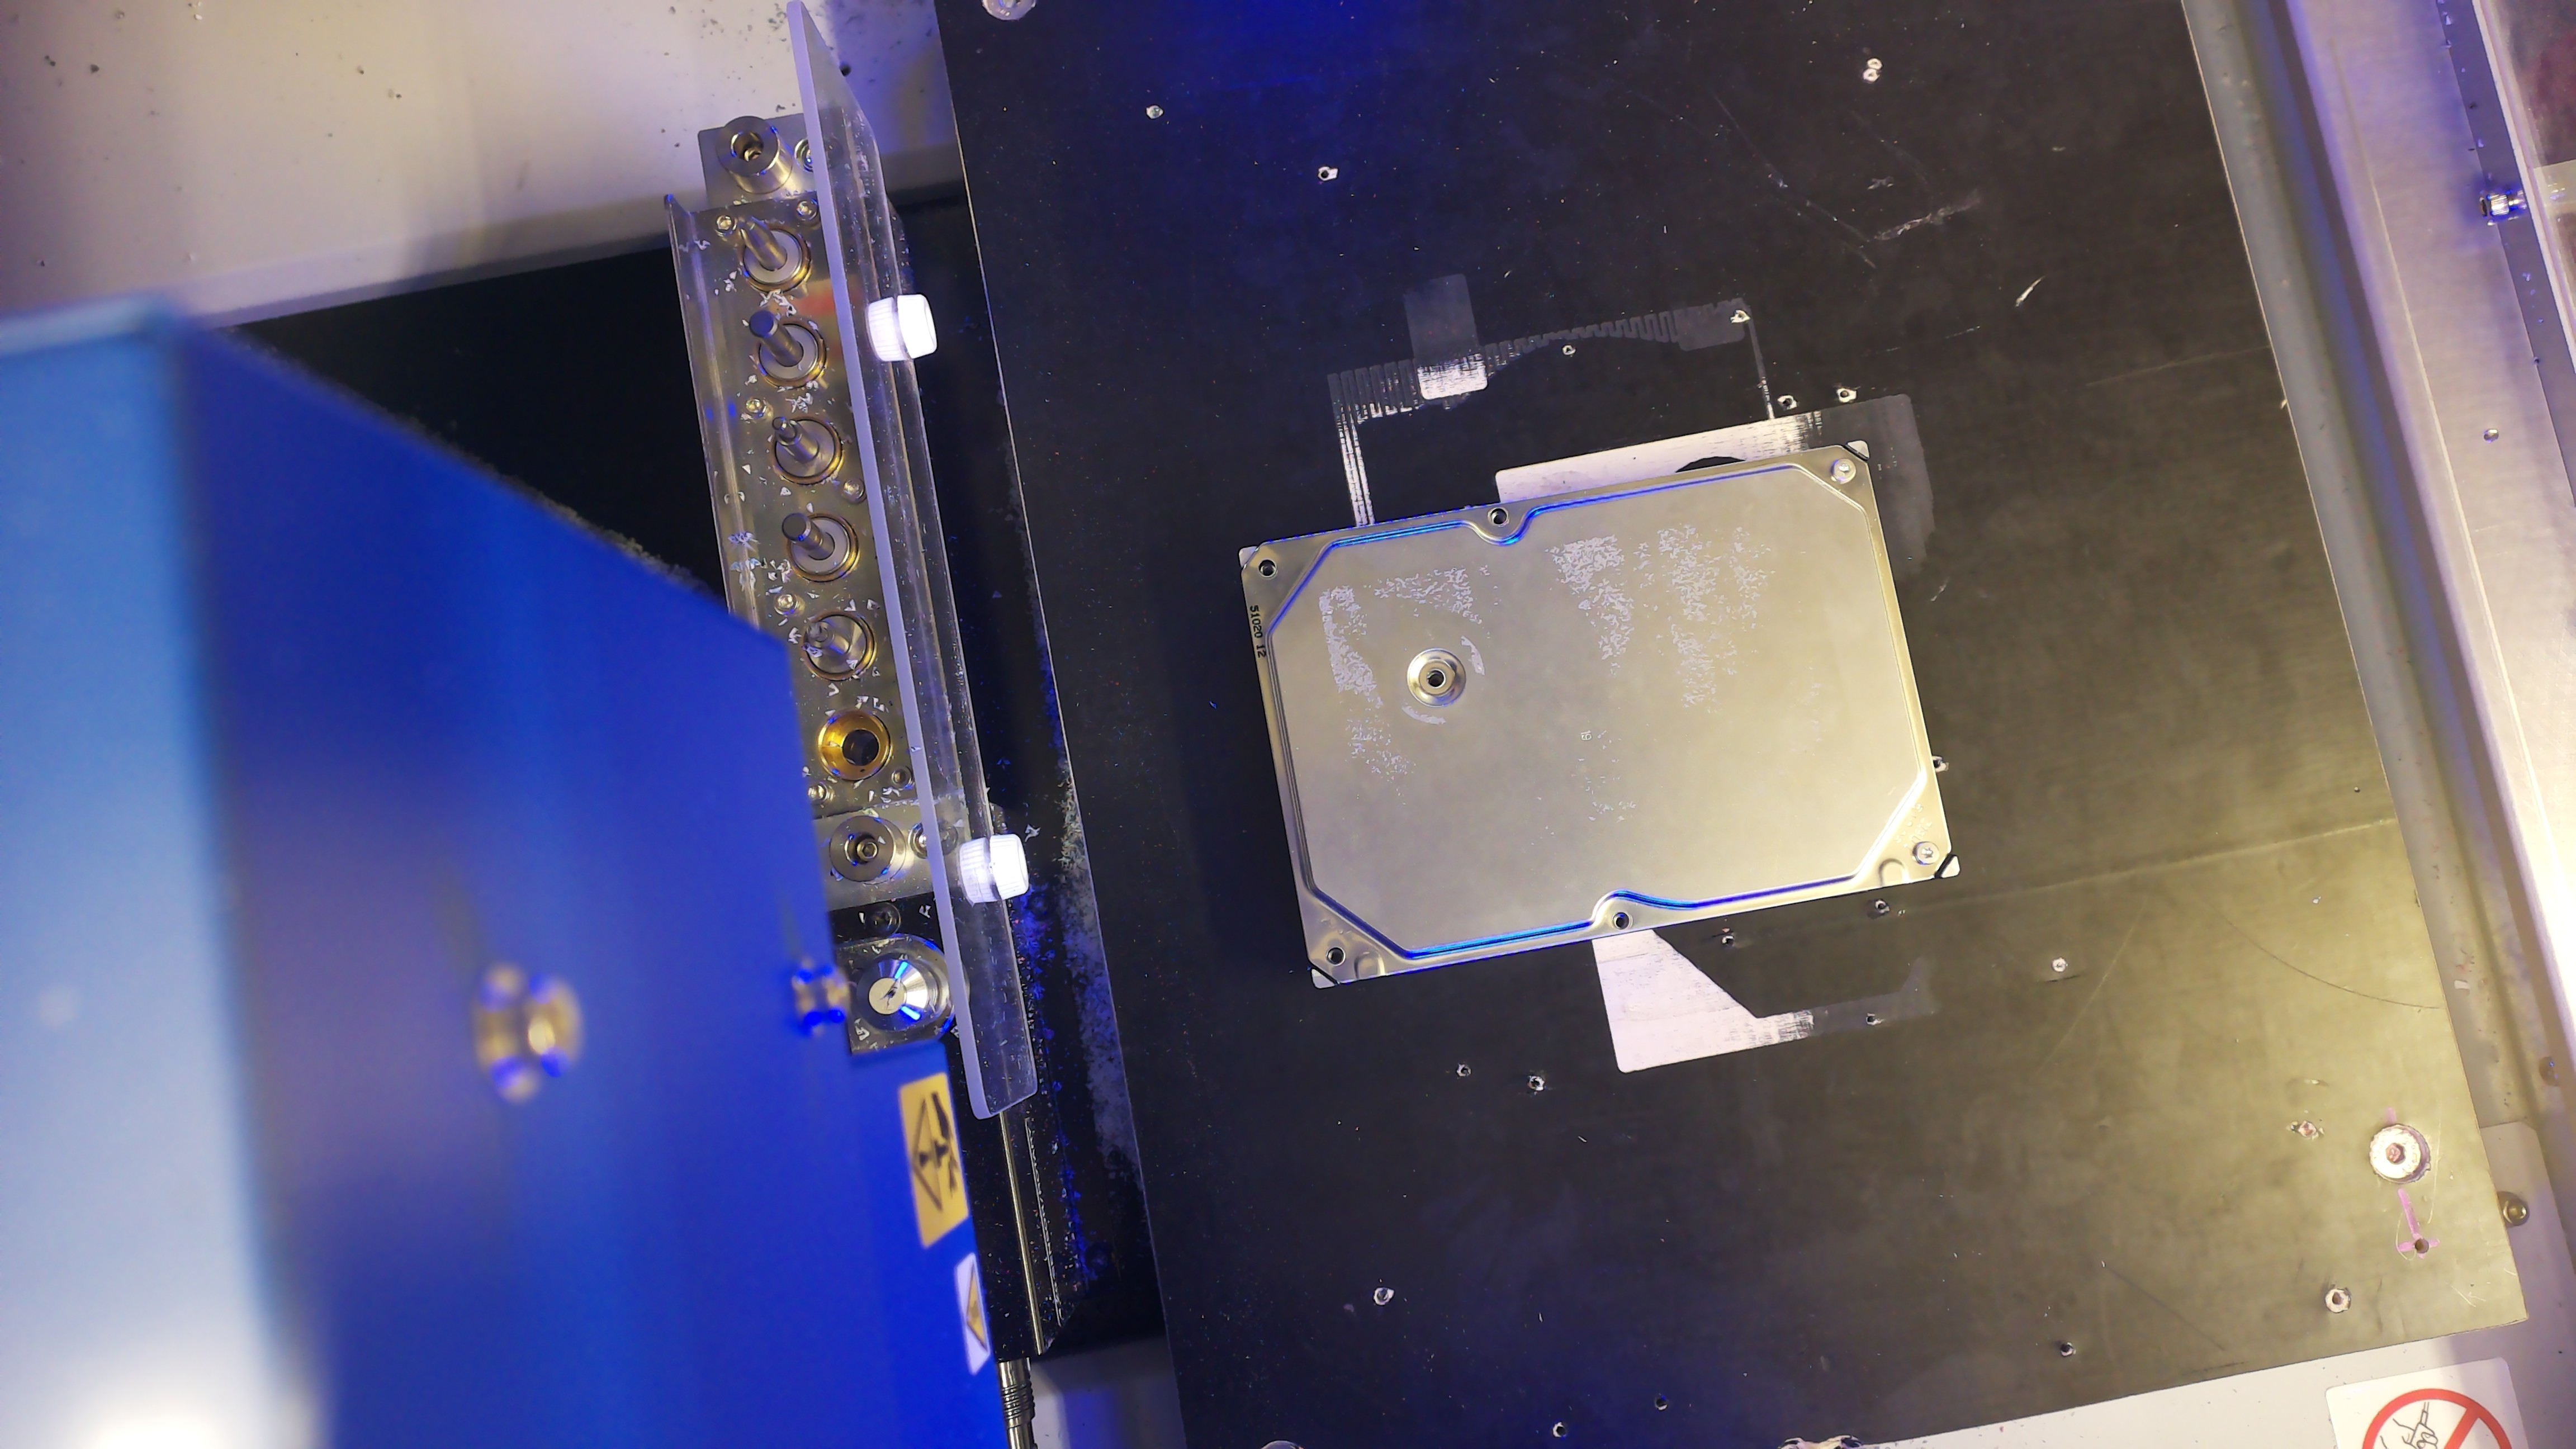Hole: (1424, 667, 1445, 688), (1256, 557, 1277, 577), (1610, 911, 1631, 931), (1488, 506, 1507, 525), (1325, 947, 1345, 966)
Screw: (1831, 456, 1856, 483), (1913, 840, 1939, 865)
